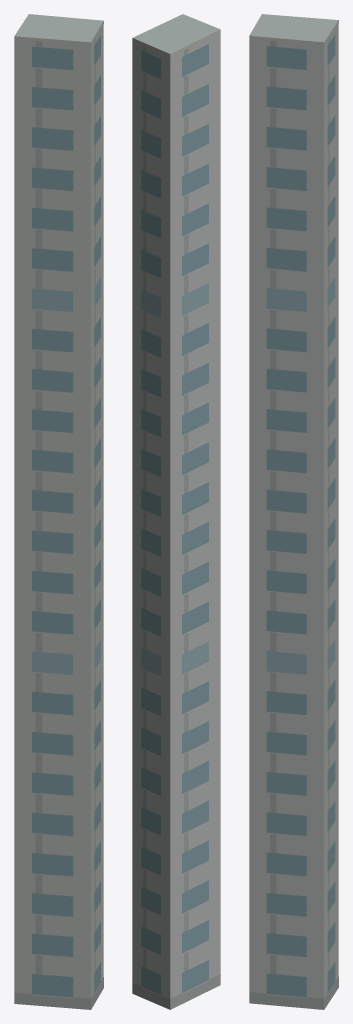
The model's file is survey-upis-32824998.glb.
The picture shows the model from 3 angles, left to right: view 1: azimuth 90°, elevation 25°; view 2: azimuth 150°, elevation 25°; view 3: azimuth 270°, elevation 25°; orthographic projection.
Visible parts, largest first — view 1: survey-upis-32824998.tmp; view 2: survey-upis-32824998.tmp; view 3: survey-upis-32824998.tmp.
Part boxes in pixels (x1,y1,x2,y2): survey-upis-32824998.tmp: (14, 14, 103, 1009); survey-upis-32824998.tmp: (132, 14, 220, 1009); survey-upis-32824998.tmp: (249, 14, 338, 1009).
Bounding box in the file's own units: 4.6 × 73.2 × 6.15.
